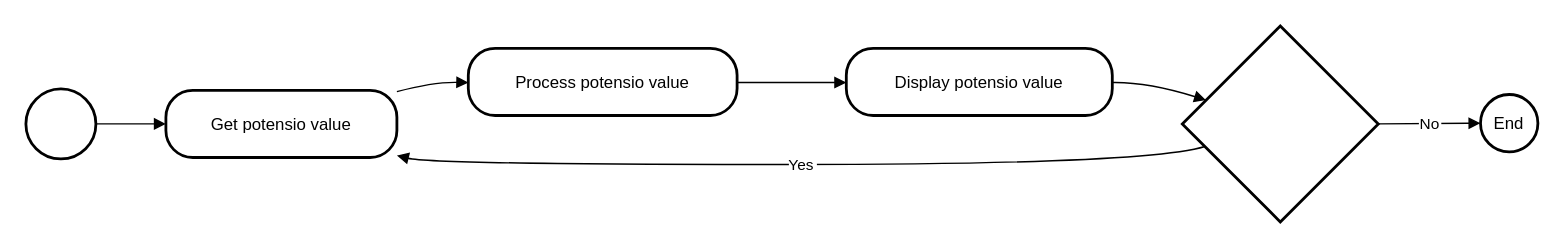
Image size: 1562x246. Some labels were removed from this diagram. Each missing label, with the centre of its shape:
More values?: (1279,123)
Start: (60,123)
